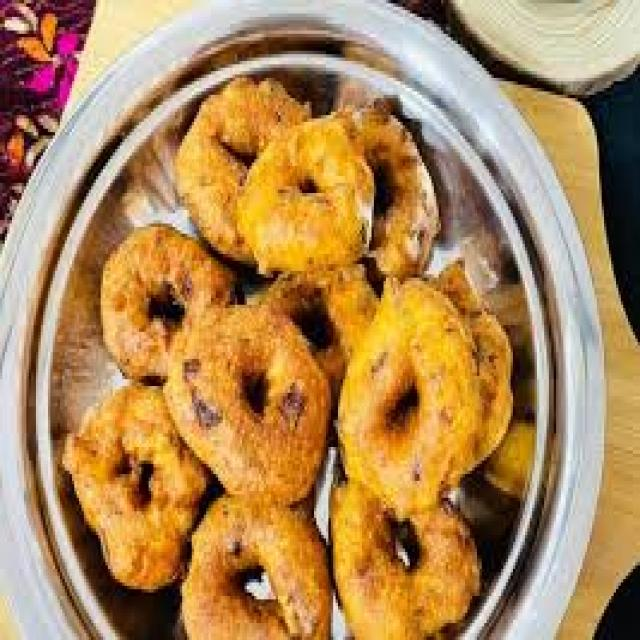MEDU VADA: (58, 369, 221, 583), (330, 275, 484, 496), (170, 301, 329, 499), (327, 468, 477, 637), (176, 77, 311, 254), (185, 487, 333, 637), (240, 113, 387, 264), (96, 226, 235, 373), (342, 102, 441, 275)
